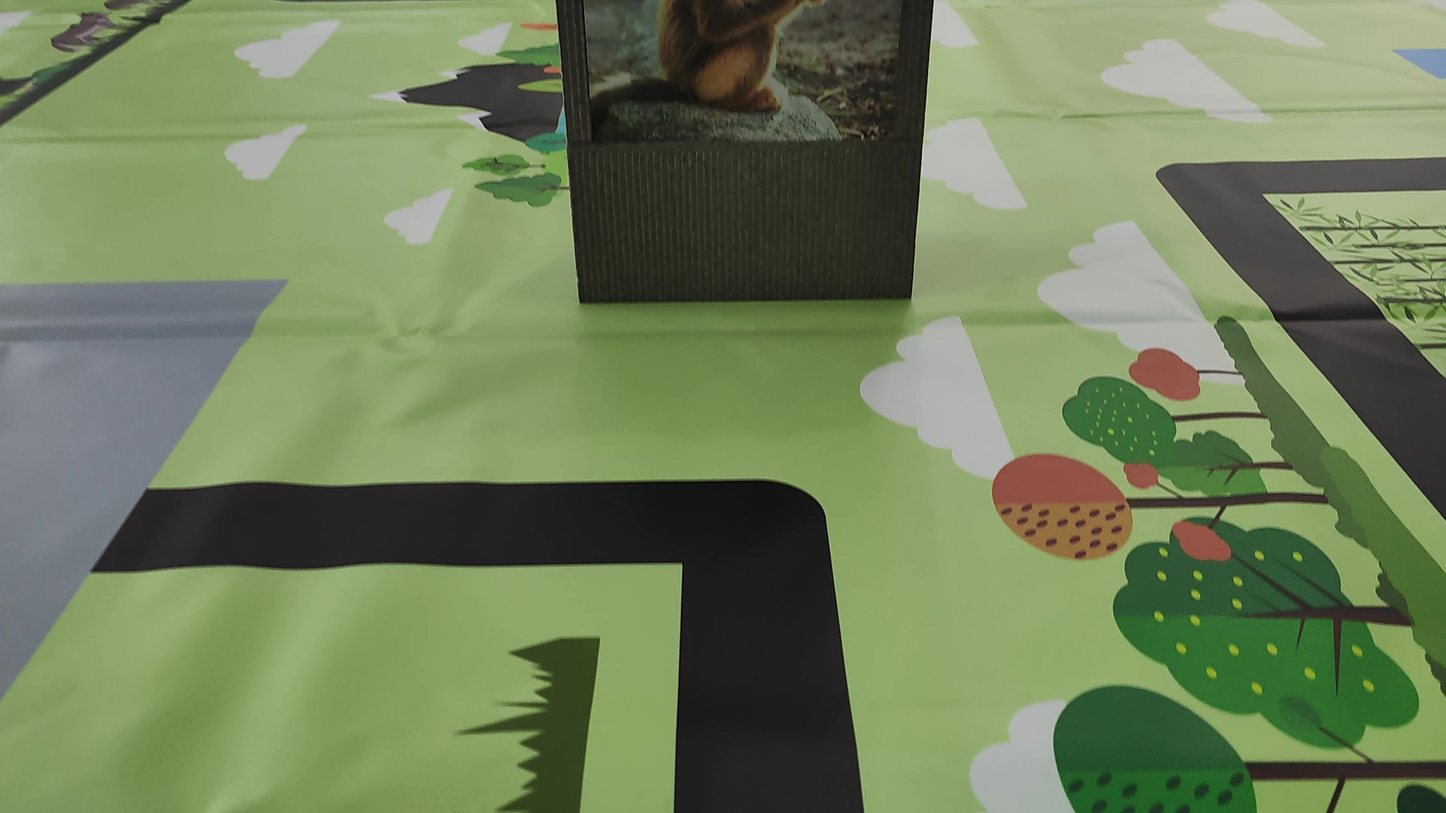monkey: (579, 0, 882, 138)
